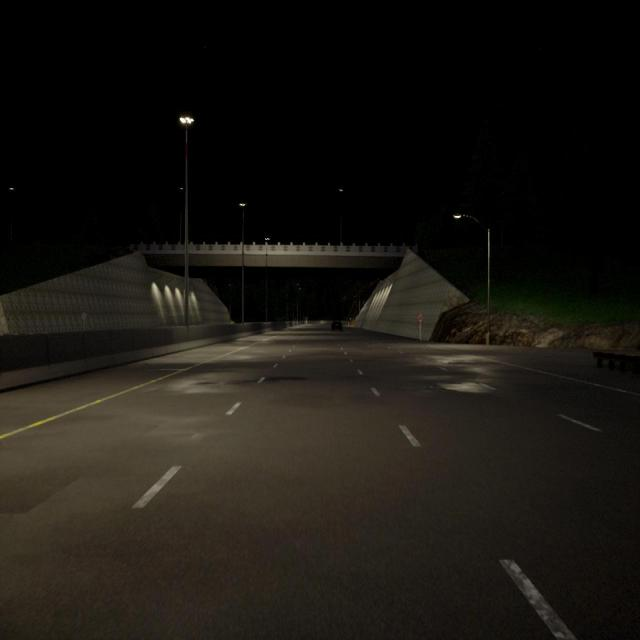Traffic_Signs: (416, 314, 424, 322)
Vehicle: (332, 320, 342, 331)
